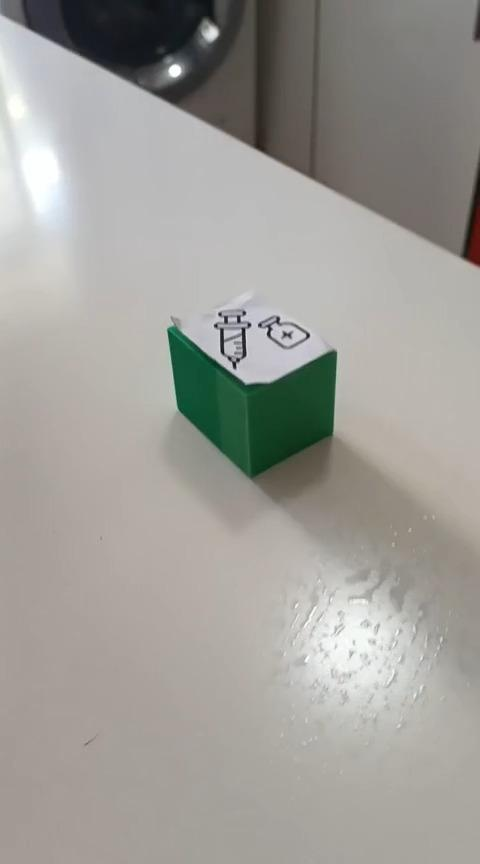antiseptic cream: (165, 288, 338, 478)
